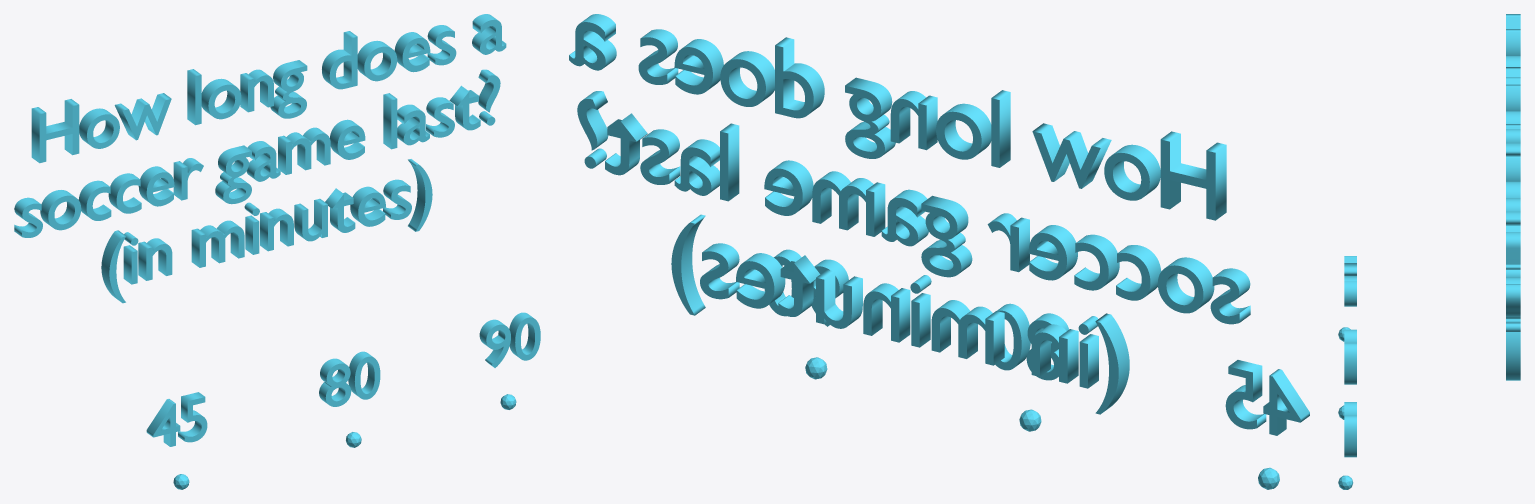
The model's file is console_test_011.fbx.
The picture shows the model from 3 angles, left to right: view 1: azimuth 30°, elevation 25°; view 2: azimuth 150°, elevation 25°; view 3: azimuth 270°, elevation 25°; orthographic projection. The views are drawn at different scales.
Visible parts, largest first — view 1: Txt_Test_01.035, Failure.029, Success.045, Failure.028; view 2: Txt_Test_01.035, Failure.028, Failure.029, Success.045; view 3: Txt_Test_01.035, Success.045, Failure.029, Failure.028.
Boxes of the visible parts, box(x1,y1,x2,y2) form: Txt_Test_01.035: box(14, 14, 506, 303); Failure.029: box(319, 351, 380, 406); Success.045: box(479, 312, 540, 367); Failure.028: box(146, 392, 207, 446); Txt_Test_01.035: box(569, 14, 1250, 414); Failure.028: box(1225, 360, 1309, 435); Failure.029: box(995, 303, 1068, 380); Success.045: box(764, 249, 848, 326); Txt_Test_01.035: box(1506, 14, 1520, 380); Success.045: box(1344, 402, 1356, 457); Failure.029: box(1344, 329, 1356, 384); Failure.028: box(1344, 256, 1356, 306).
Size of the model in its own units: 1.71 by 1.1 by 0.6018.
